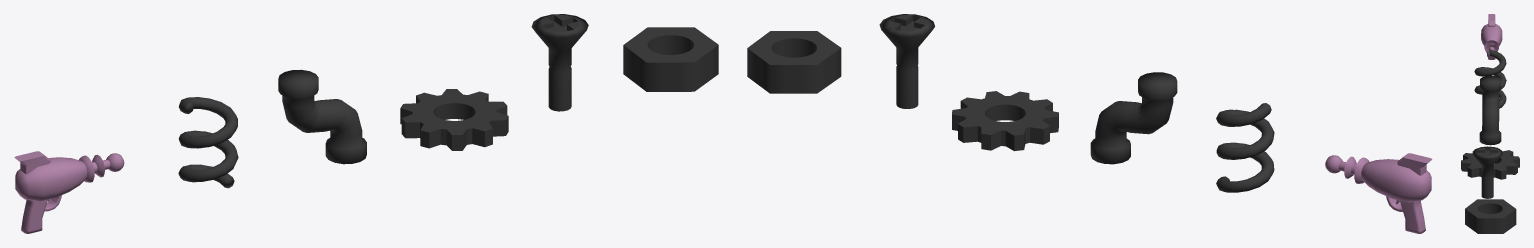
File: Metal Parts and Lazergun v1 - Copy.fbx
The picture shows the model from 3 angles, left to right: view 1: azimuth 30°, elevation 25°; view 2: azimuth 150°, elevation 25°; view 3: azimuth 270°, elevation 25°; orthographic projection. The views are drawn at different scales.
Parts seen in each view (by area): view 1: pPipe2, pPipe1, pCylinder4, polySurface9, pHelix1, pCylinder1; view 2: pPipe2, pPipe1, pCylinder4, polySurface9, pHelix1, pCylinder1; view 3: pPipe2, pCylinder4, pPipe1, pCylinder1, pHelix1, polySurface9.
Boxes of the visible parts, box(x1,y1,x2,y2) form: pPipe2: box(623, 27, 718, 91); pPipe1: box(400, 89, 508, 150); pCylinder4: box(278, 69, 366, 164); polySurface9: box(14, 151, 124, 233); pHelix1: box(178, 97, 238, 188); pCylinder1: box(531, 14, 588, 111); pPipe2: box(747, 31, 841, 93); pPipe1: box(952, 91, 1058, 151); pCylinder4: box(1090, 72, 1177, 164); polySurface9: box(1325, 153, 1432, 233); pHelix1: box(1216, 103, 1274, 192); pCylinder1: box(879, 14, 934, 108); pPipe2: box(1465, 199, 1516, 233); pCylinder4: box(1479, 75, 1501, 145); pPipe1: box(1461, 147, 1519, 179); pCylinder1: box(1472, 146, 1502, 198); pHelix1: box(1474, 49, 1506, 108); polySurface9: box(1481, 14, 1502, 59).
Size of the model in its own units: 18.73 by 2.51 by 2.58.
